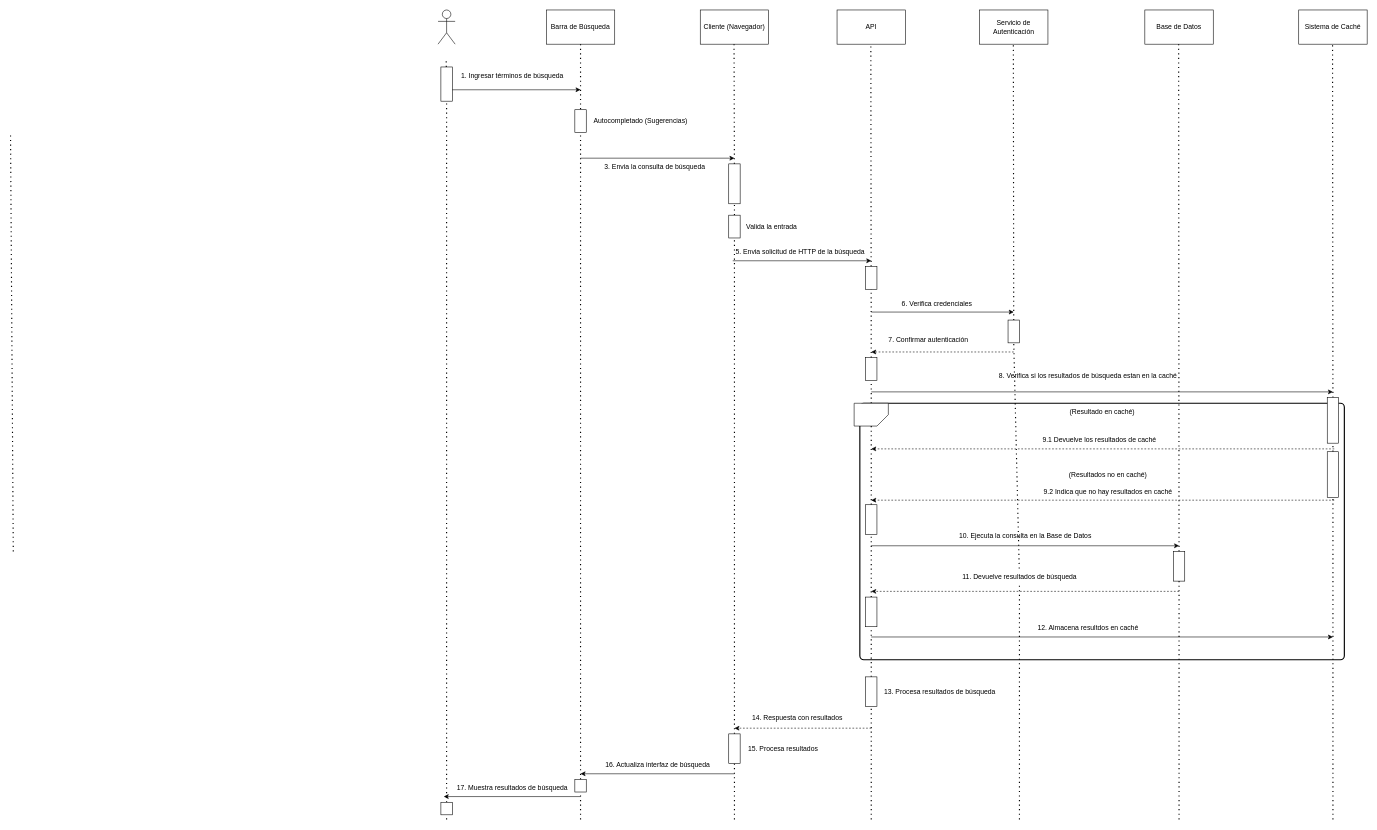
Some shapes in this 1377 by 830 pixel diagram are drawn without their labels. The centre of each missing label's shape, as x and y in pixels:
Alt: point 871,414
Usuario: point 446,26
